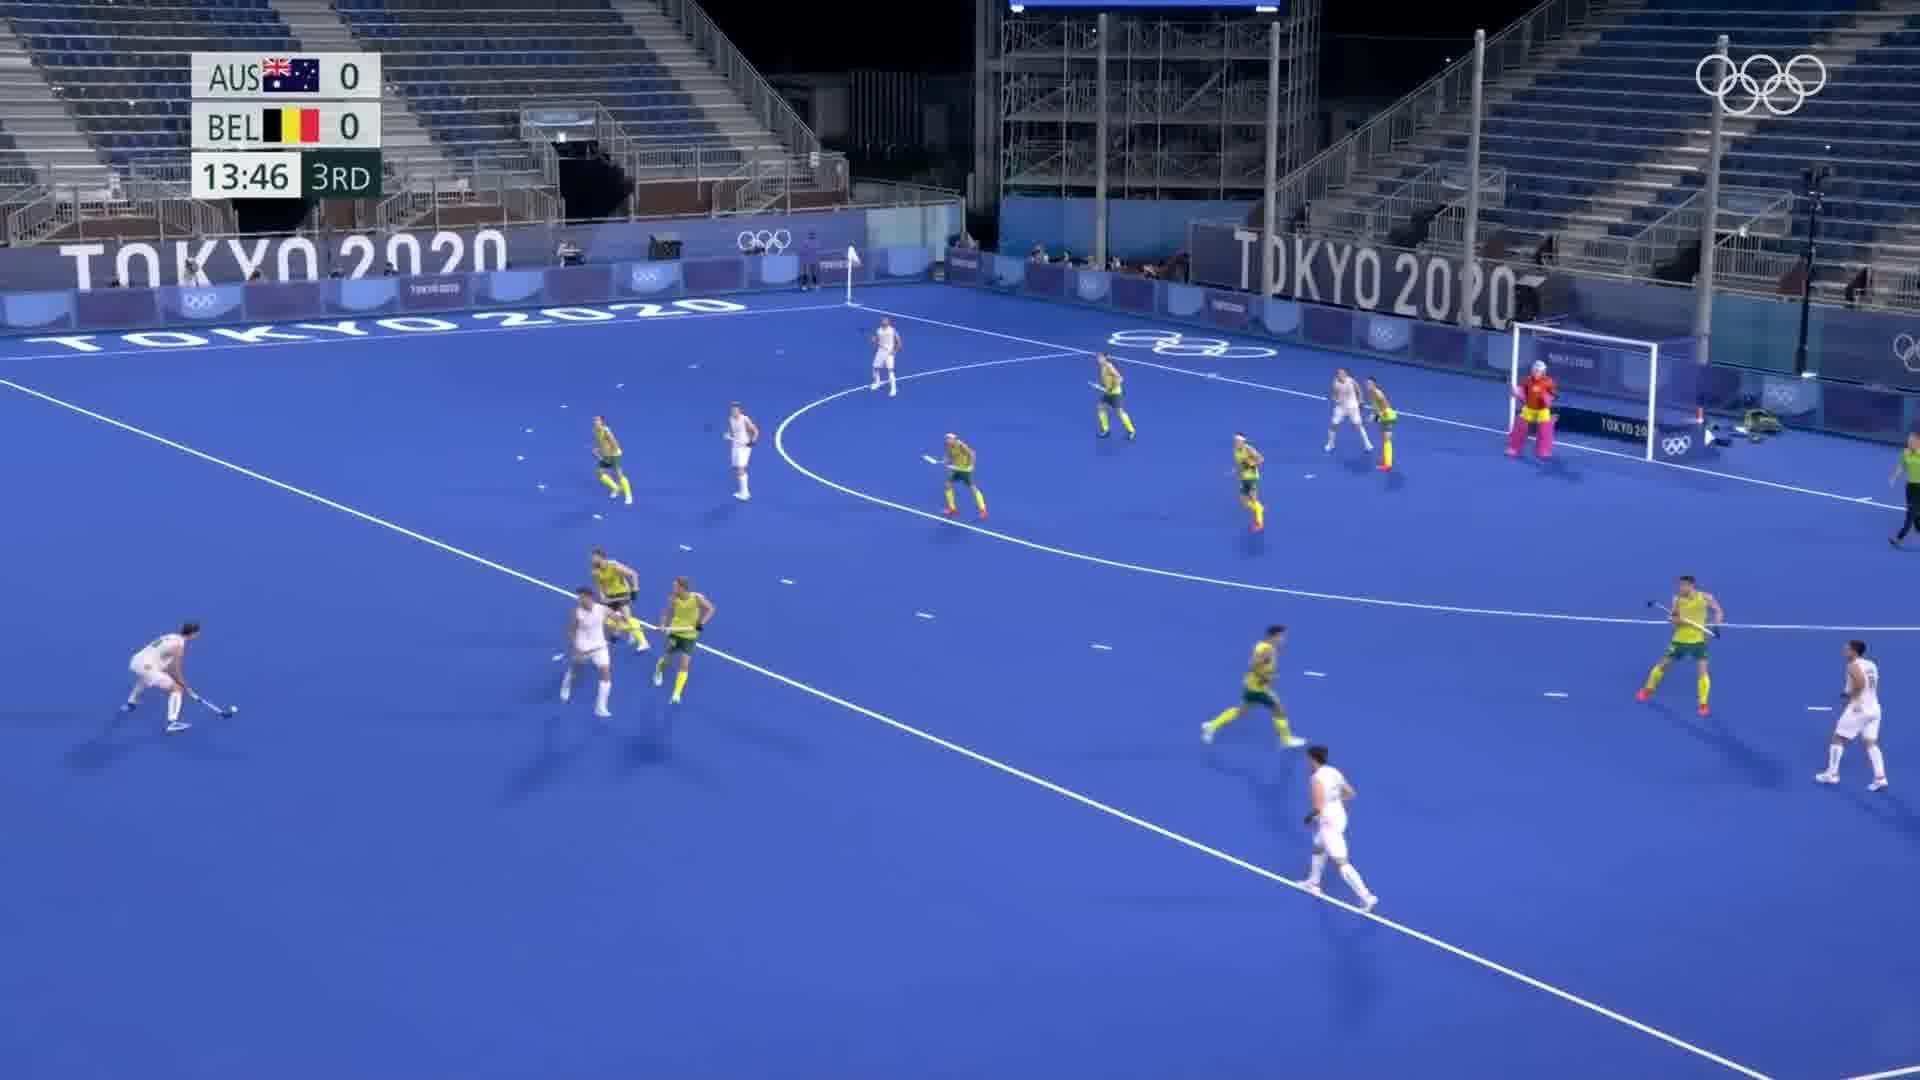ball: (225, 702, 243, 715)
